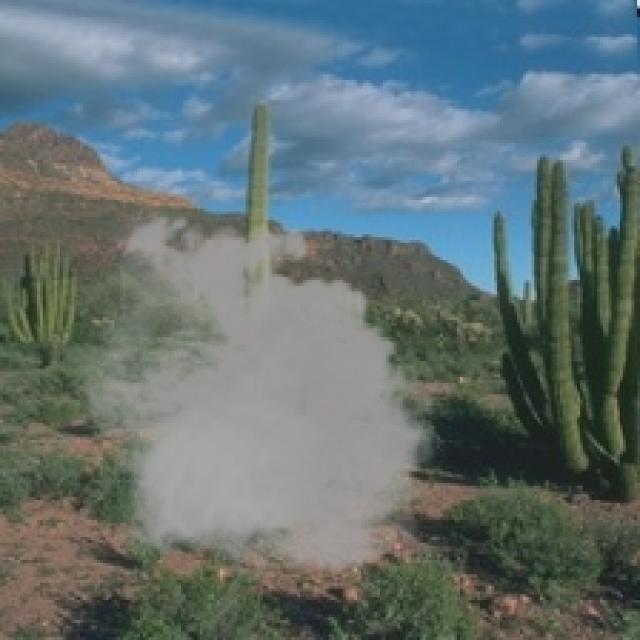smoke: (63, 203, 448, 586)
